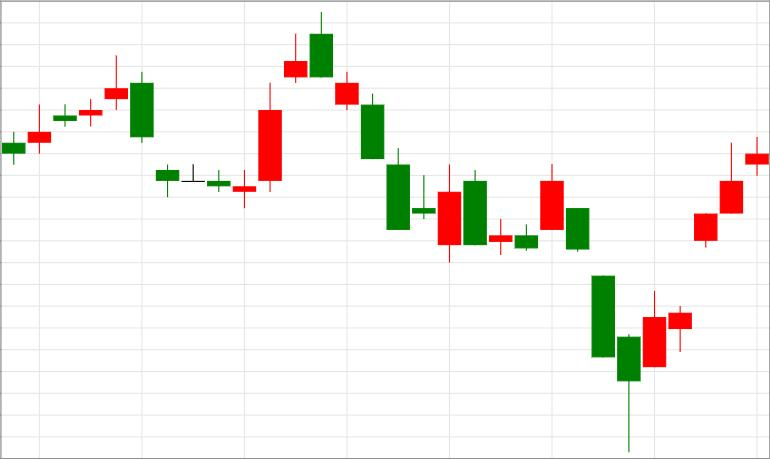hammer_rise: (464, 165, 641, 453)
